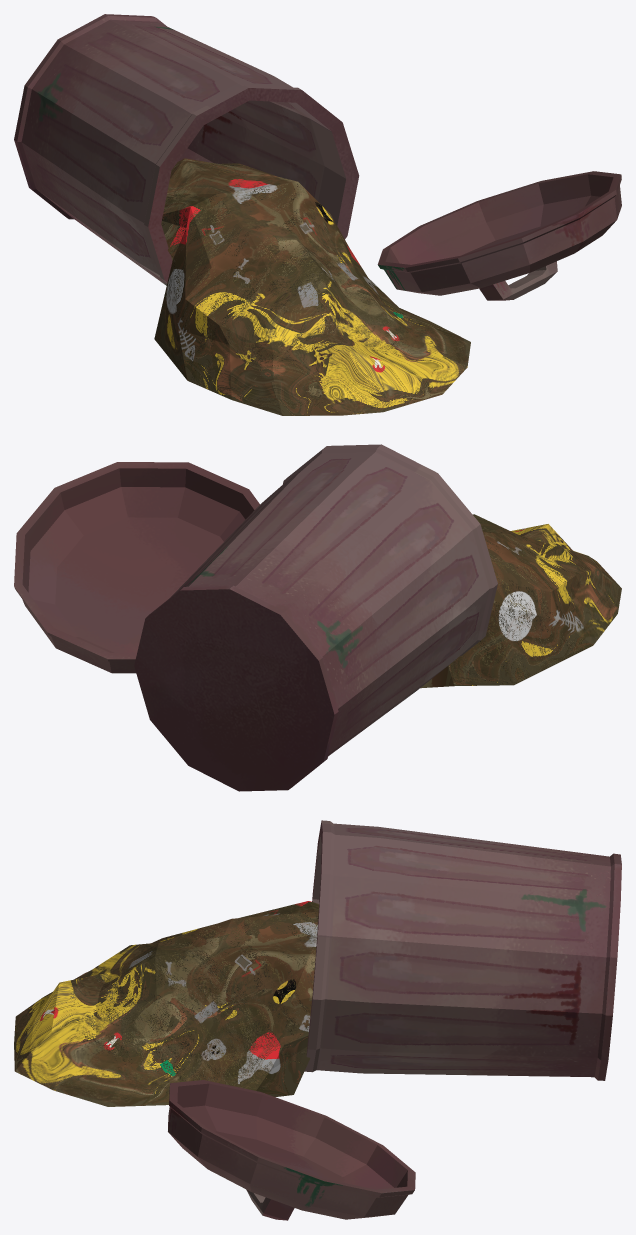
File: Trashcan_spilled01.fbx
3 views of the same model, one above another, from view 1: azimuth 30°, elevation 25°; view 2: azimuth 150°, elevation 25°; view 3: azimuth 270°, elevation 25° (orthographic). The views are drawn at different scales.
Parts seen in each view (by area): view 1: Trashcan_spilled01, Trashcan_lid01; view 2: Trashcan_spilled01, Trashcan_lid01; view 3: Trashcan_spilled01, Trashcan_lid01.
Boxes of the visible parts, x1=… form: Trashcan_spilled01: x1=14, y1=14, x2=470, y2=415; Trashcan_lid01: x1=377, y1=171, x2=621, y2=300; Trashcan_spilled01: x1=134, y1=444, x2=621, y2=791; Trashcan_lid01: x1=14, y1=462, x2=259, y2=673; Trashcan_spilled01: x1=14, y1=820, x2=621, y2=1106; Trashcan_lid01: x1=168, y1=1080, x2=415, y2=1220.
Bounding box in the file's own units: 155 × 77.26 × 165.
Materials: 3 (3 with a texture image).
